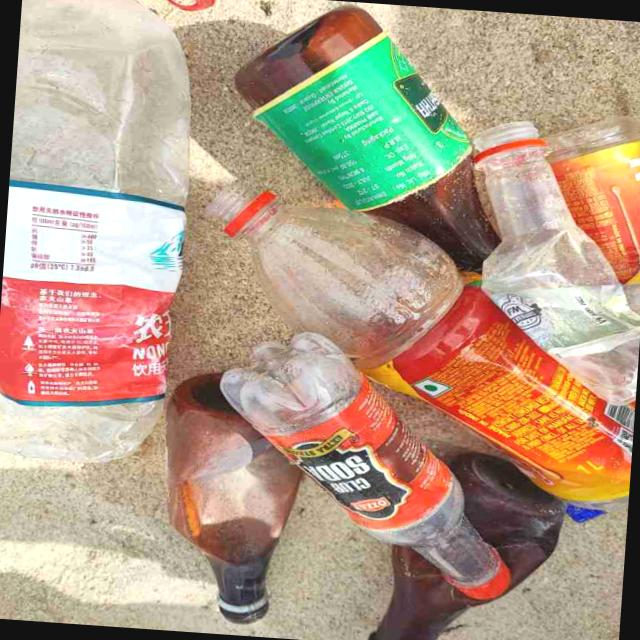chai_nhua: (207, 195, 635, 507), (220, 332, 510, 601), (8, 0, 189, 292), (475, 120, 640, 404), (0, 282, 164, 462), (546, 115, 640, 283)
chai_thuy_tinh: (166, 374, 302, 623), (451, 454, 564, 590), (367, 157, 500, 269), (234, 5, 381, 106), (369, 546, 485, 640)
giay: (253, 32, 471, 210)
